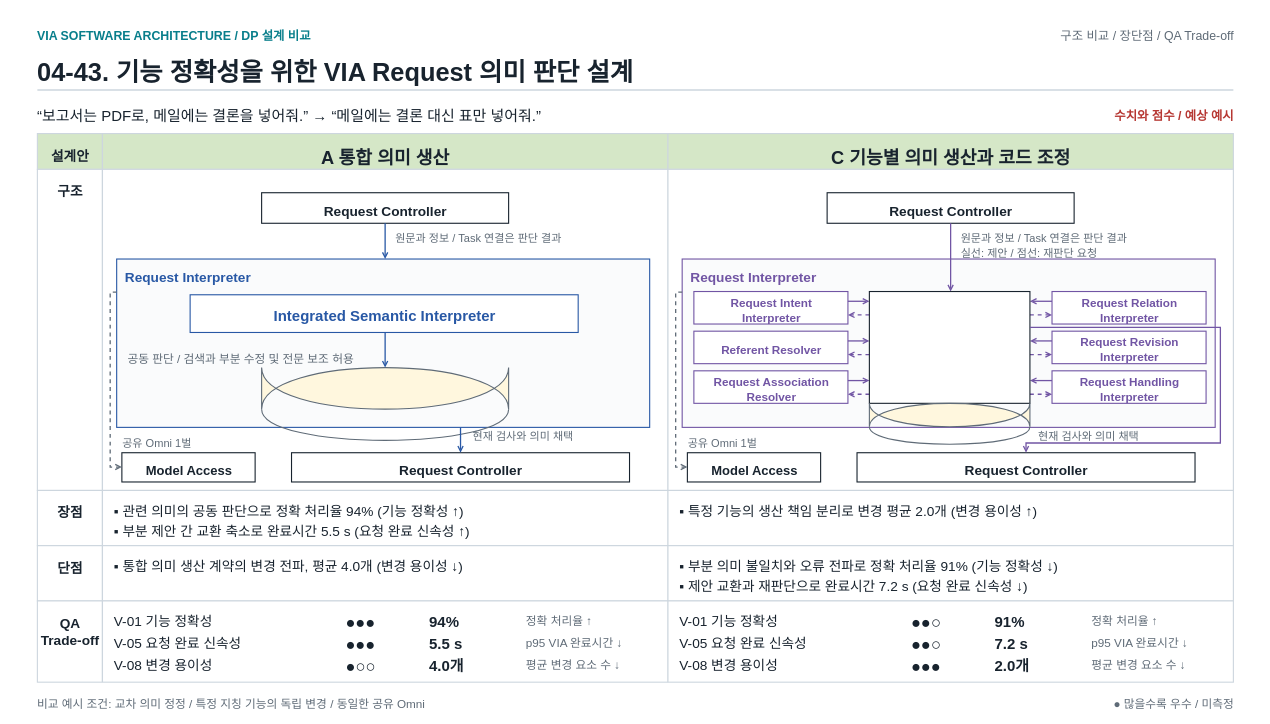
The diagram is 1270 pixels wide and 724 high, and some of its shapes have lost their labels. Each missing label, with the box of its shape:
Interpretation Attempt State: (261, 367, 509, 409)
Interpretation Coordinator: (869, 291, 1030, 404)
Partial Interpretation Ledger: (869, 402, 1030, 427)
